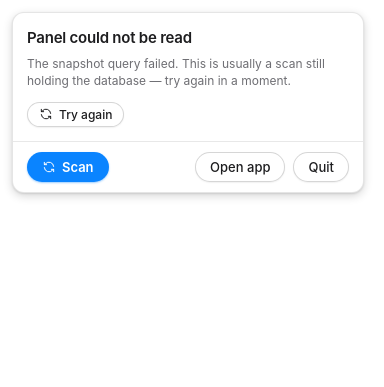
Scenario: Panel › says the snapshot could not be read rather than showing a blank card
The image size is (384, 387).
Expected: the heading "Panel could not be read" is shown, [27, 28, 192, 47]
Click the button "Try again": (76, 114) [27, 102, 124, 126]
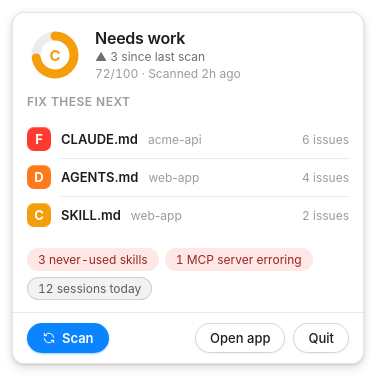
Expected: the heading "Needs work" is shown, [95, 28, 185, 48]
